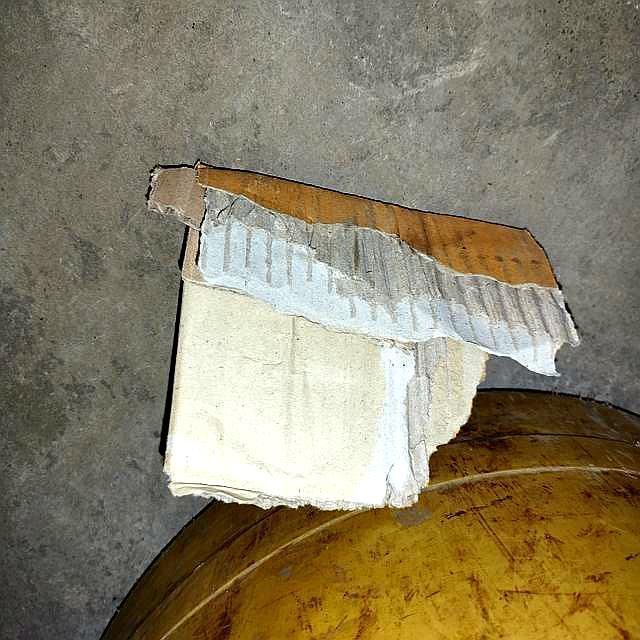Biodegradable: (143, 167, 581, 511)
